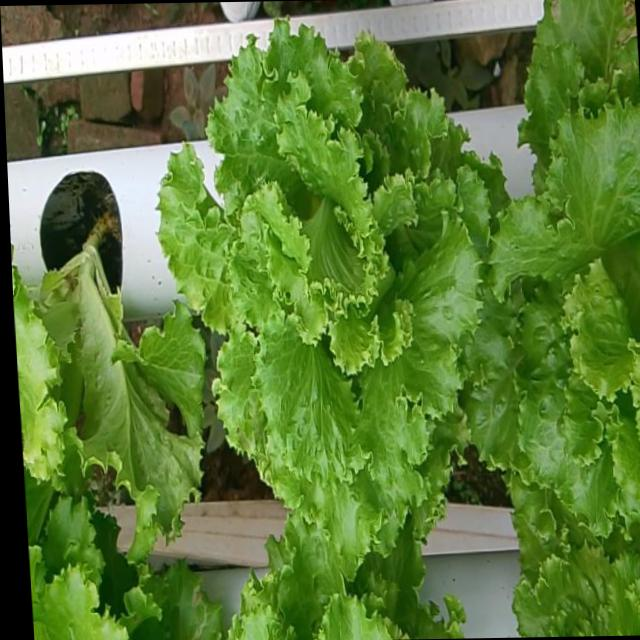Mature: (149, 21, 482, 559), (459, 91, 640, 535)
